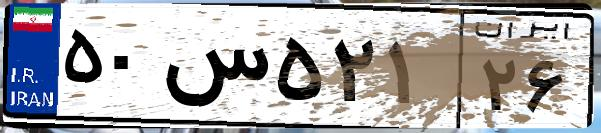0: (110, 28, 158, 98)
1: (385, 28, 445, 110)
2: (330, 28, 385, 110), (475, 38, 525, 113)
5: (270, 28, 330, 110), (57, 26, 110, 100)
6: (525, 38, 570, 115)
س: (158, 20, 270, 120)
